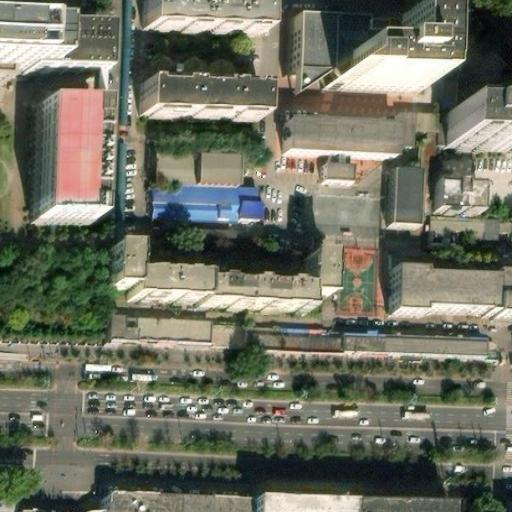building: (34, 99, 96, 218), (303, 6, 409, 75), (347, 11, 435, 79), (388, 272, 512, 316), (332, 329, 482, 361), (295, 113, 413, 153), (155, 181, 263, 224), (140, 92, 262, 129), (103, 486, 258, 512), (143, 0, 264, 29), (157, 147, 244, 185), (201, 284, 314, 311), (305, 191, 380, 230), (113, 314, 210, 344), (241, 324, 333, 354), (425, 216, 509, 245), (447, 109, 512, 146), (134, 274, 202, 305), (257, 494, 361, 512), (62, 22, 99, 71), (395, 170, 425, 224), (434, 185, 480, 213), (360, 499, 457, 512), (436, 151, 474, 182), (319, 156, 356, 182), (112, 250, 136, 287)
